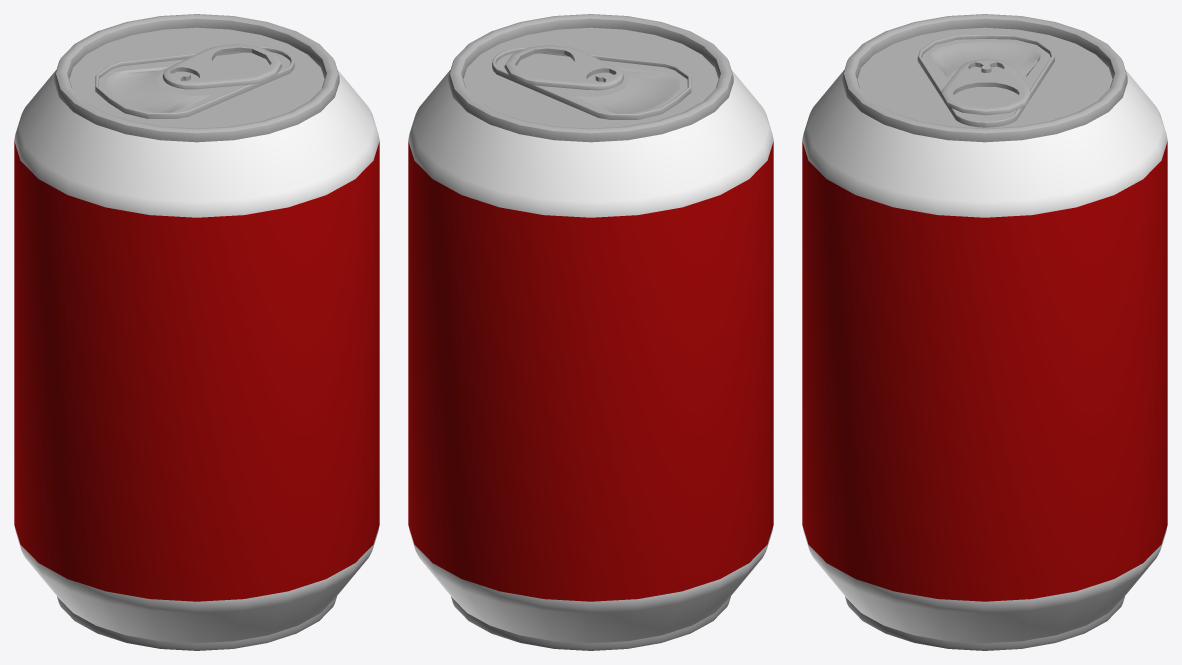
The model's file is Drinks_04.glb.
3 views of the same model, side by side, from view 1: azimuth 30°, elevation 25°; view 2: azimuth 150°, elevation 25°; view 3: azimuth 270°, elevation 25° (orthographic).
Parts seen in each view (by area): view 1: Mesh_Drinks_04; view 2: Mesh_Drinks_04; view 3: Mesh_Drinks_04.
Boxes of the visible parts, x1,y1,x2,y2 form: Mesh_Drinks_04: [14, 14, 379, 650]; Mesh_Drinks_04: [408, 14, 773, 650]; Mesh_Drinks_04: [802, 14, 1167, 650].
Bounding box in the file's own units: 0.0653 × 0.1026 × 0.0653.
Materials: 1 (1 with a texture image).
